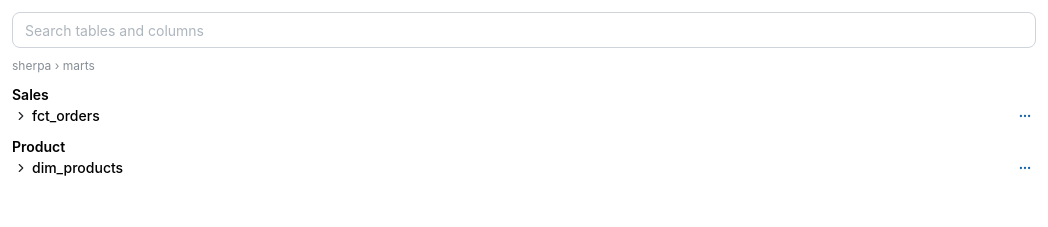
Scenario: CatalogTree › the chevron opens and closes a table's columns without selecting it; the name does both
Step 1. Click the button named "Show the columns of fct_orders" → click(21, 116), box [12,107,30,125]
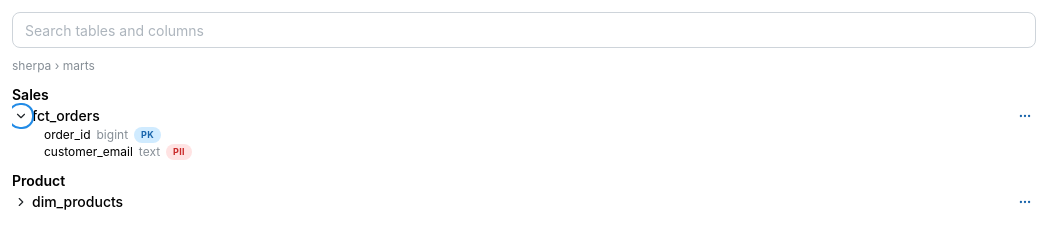
Expected: the button "fct_orders" is expanded, [32,106,1012,126]
Expected: the text "order_id" is shown, [44,127,90,144]
Step 2. Click the button named "Hide the columns of fct_orders" → click(21, 116), box [12,107,30,125]
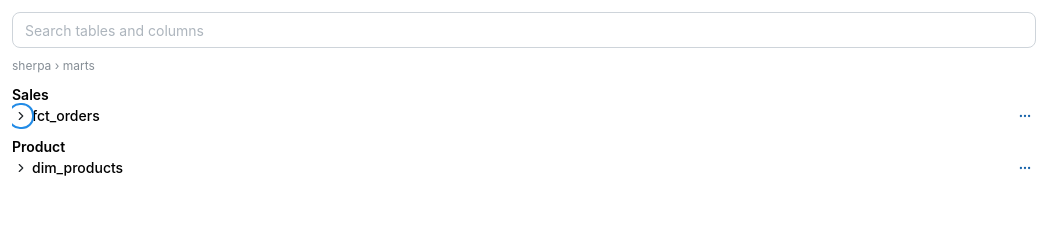
Expected: the text "order_id" is gone
Step 3. Click the button "fct_orders" → click(66, 115), box [32,106,1012,126]
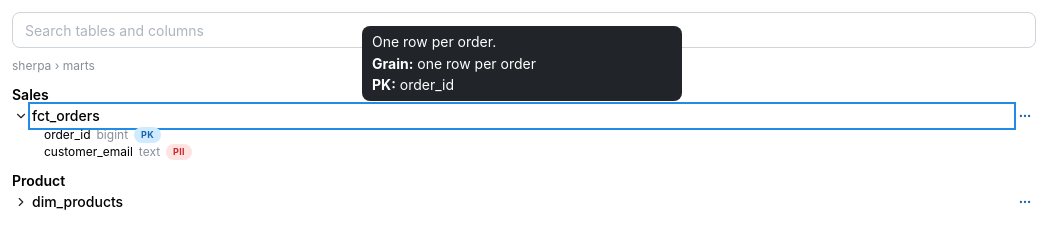
Expected: the button "fct_orders" is expanded, [32,106,1012,126]
